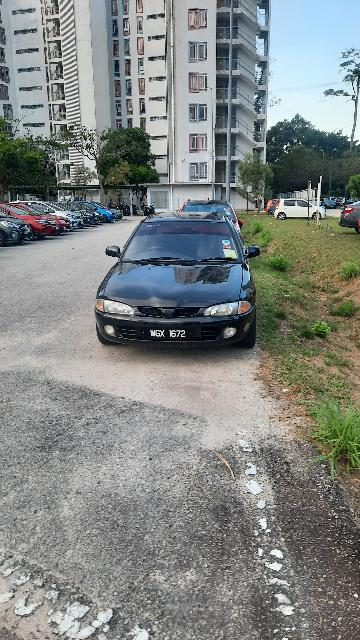License_Plate: (138, 325, 198, 342)
car: (95, 212, 262, 353)
